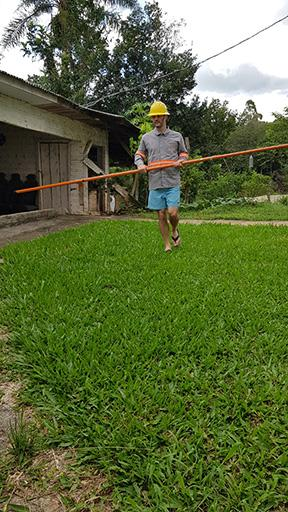Vara_Manobra: (13, 142, 286, 192)
